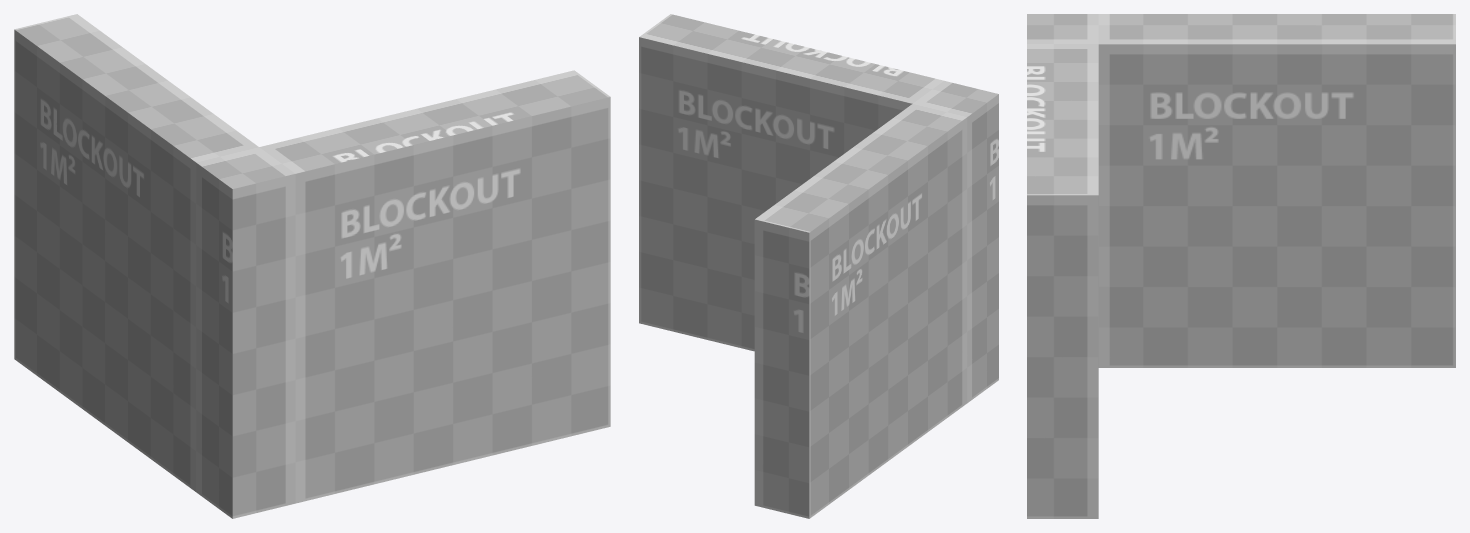
Rendered from BlockoutEdgeHalfThinOutside.fbx.
3 renders of one model, left to right at view 1: azimuth 30°, elevation 25°; view 2: azimuth 150°, elevation 25°; view 3: azimuth 270°, elevation 25°, orthographic. The views are drawn at different scales.
Parts seen in each view (by area): view 1: BlockoutEdgeHalfThinOutside; view 2: BlockoutEdgeHalfThinOutside; view 3: BlockoutEdgeHalfThinOutside.
Boxes of the visible parts, left/top/right/bottom form: BlockoutEdgeHalfThinOutside: left=14, top=14, right=610, bottom=518; BlockoutEdgeHalfThinOutside: left=639, top=14, right=998, bottom=518; BlockoutEdgeHalfThinOutside: left=1027, top=14, right=1455, bottom=518.
Bounding box in the file's own units: 120 × 100 × 120.
